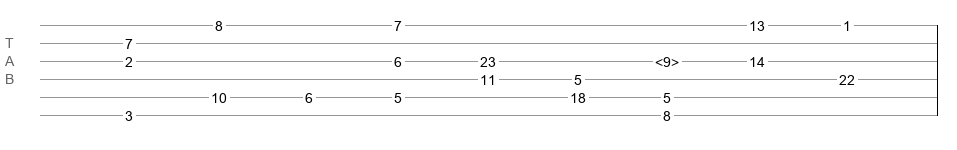1: (843, 18, 851, 28)
10: (211, 90, 227, 100)
11: (480, 72, 496, 82)
13: (749, 18, 765, 28)
14: (749, 54, 765, 64)
18: (570, 90, 586, 100)
2: (125, 54, 133, 64)
22: (839, 72, 855, 82)
23: (480, 54, 496, 64)
3: (125, 108, 133, 118)
5: (394, 90, 402, 100), (574, 72, 582, 82), (663, 90, 671, 100)
6: (305, 90, 313, 100), (394, 54, 402, 64)
7: (125, 36, 133, 46), (394, 18, 402, 28)
8: (215, 18, 223, 28), (663, 108, 671, 118)
harmonic: (655, 54, 679, 64)
